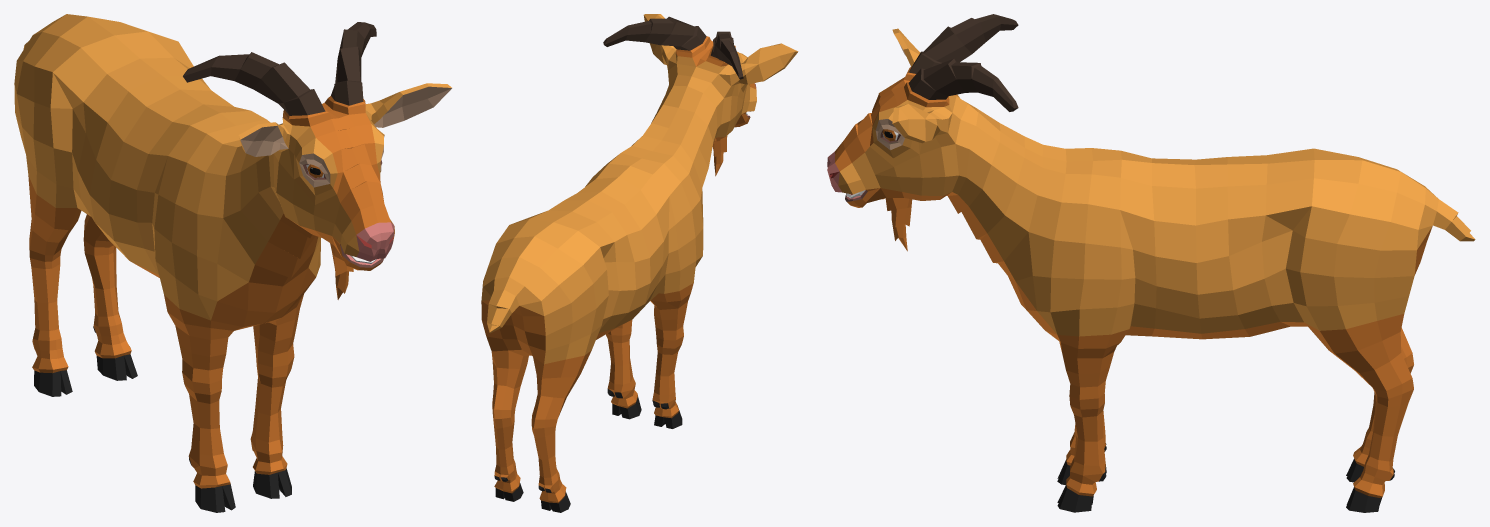
File: LowPoly_Goat_Male_4.obj
The picture shows the model from 3 angles, left to right: view 1: azimuth 30°, elevation 25°; view 2: azimuth 150°, elevation 25°; view 3: azimuth 270°, elevation 25°; orthographic projection. The views are drawn at different scales.
Parts seen in each view (by area): view 1: Goat_Male_4_Cube.013; view 2: Goat_Male_4_Cube.013; view 3: Goat_Male_4_Cube.013.
Boxes of the visible parts, x1=… form: Goat_Male_4_Cube.013: x1=14, y1=14, x2=451, y2=512; Goat_Male_4_Cube.013: x1=481, y1=14, x2=798, y2=512; Goat_Male_4_Cube.013: x1=827, y1=14, x2=1475, y2=512.
Size of the model in its own units: 0.4074 by 0.9092 by 1.19.
